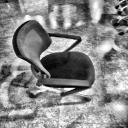chair_success: (8, 20, 104, 104)
